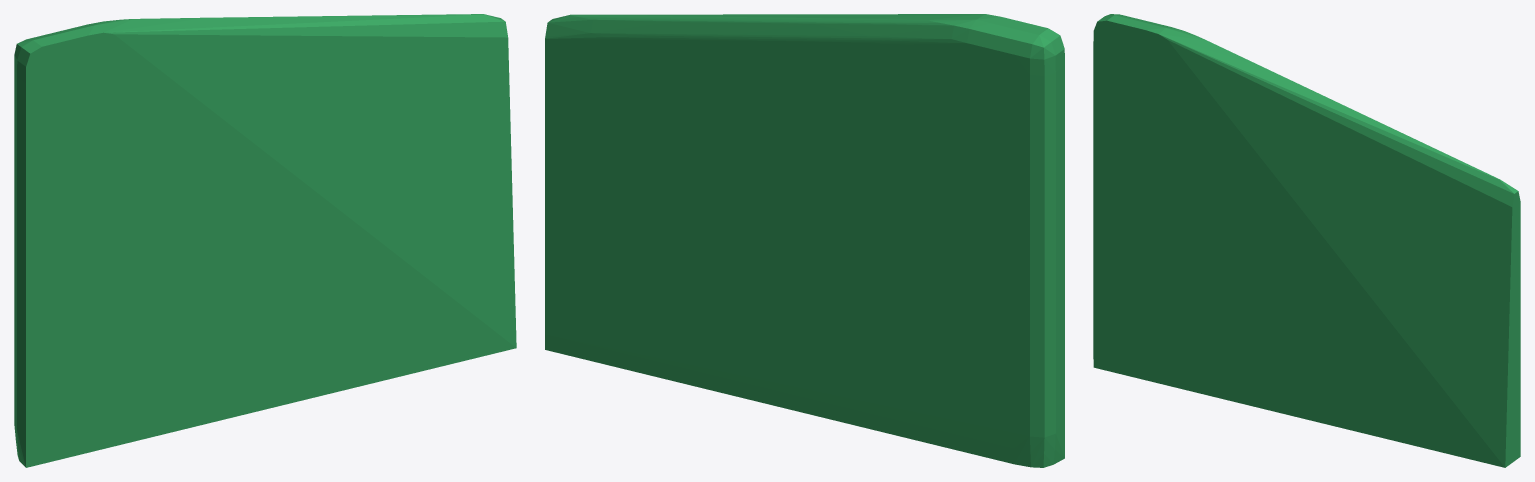
The model's file is left_hip_yaw_link_part_10.obj.
3 views of the same model, side by side, from view 1: azimuth 30°, elevation 25°; view 2: azimuth 150°, elevation 25°; view 3: azimuth 330°, elevation 25° (orthographic). The views are drawn at different scales.
Bounding box in the file's own units: 0.0393 × 0.032 × 0.00253.
